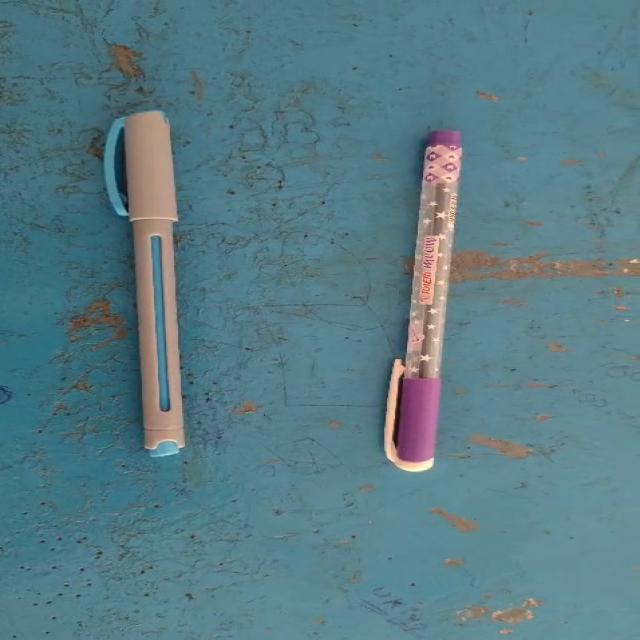pen: (23, 68, 276, 550), (354, 116, 517, 482)
